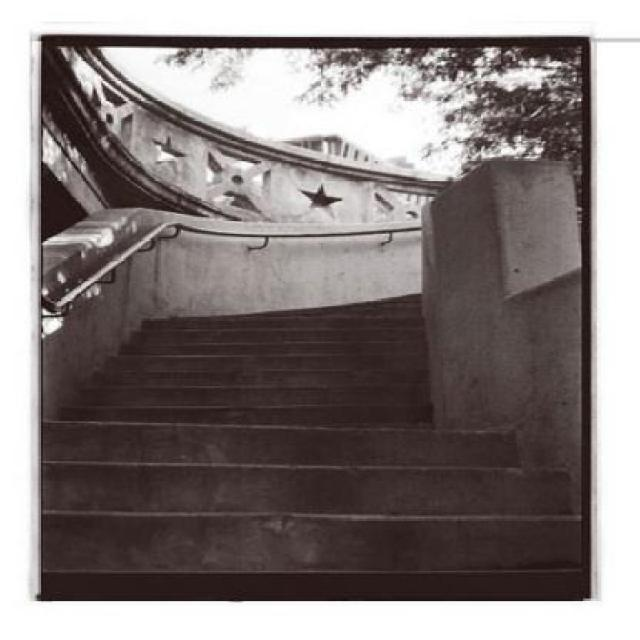stair: (41, 288, 584, 600)
